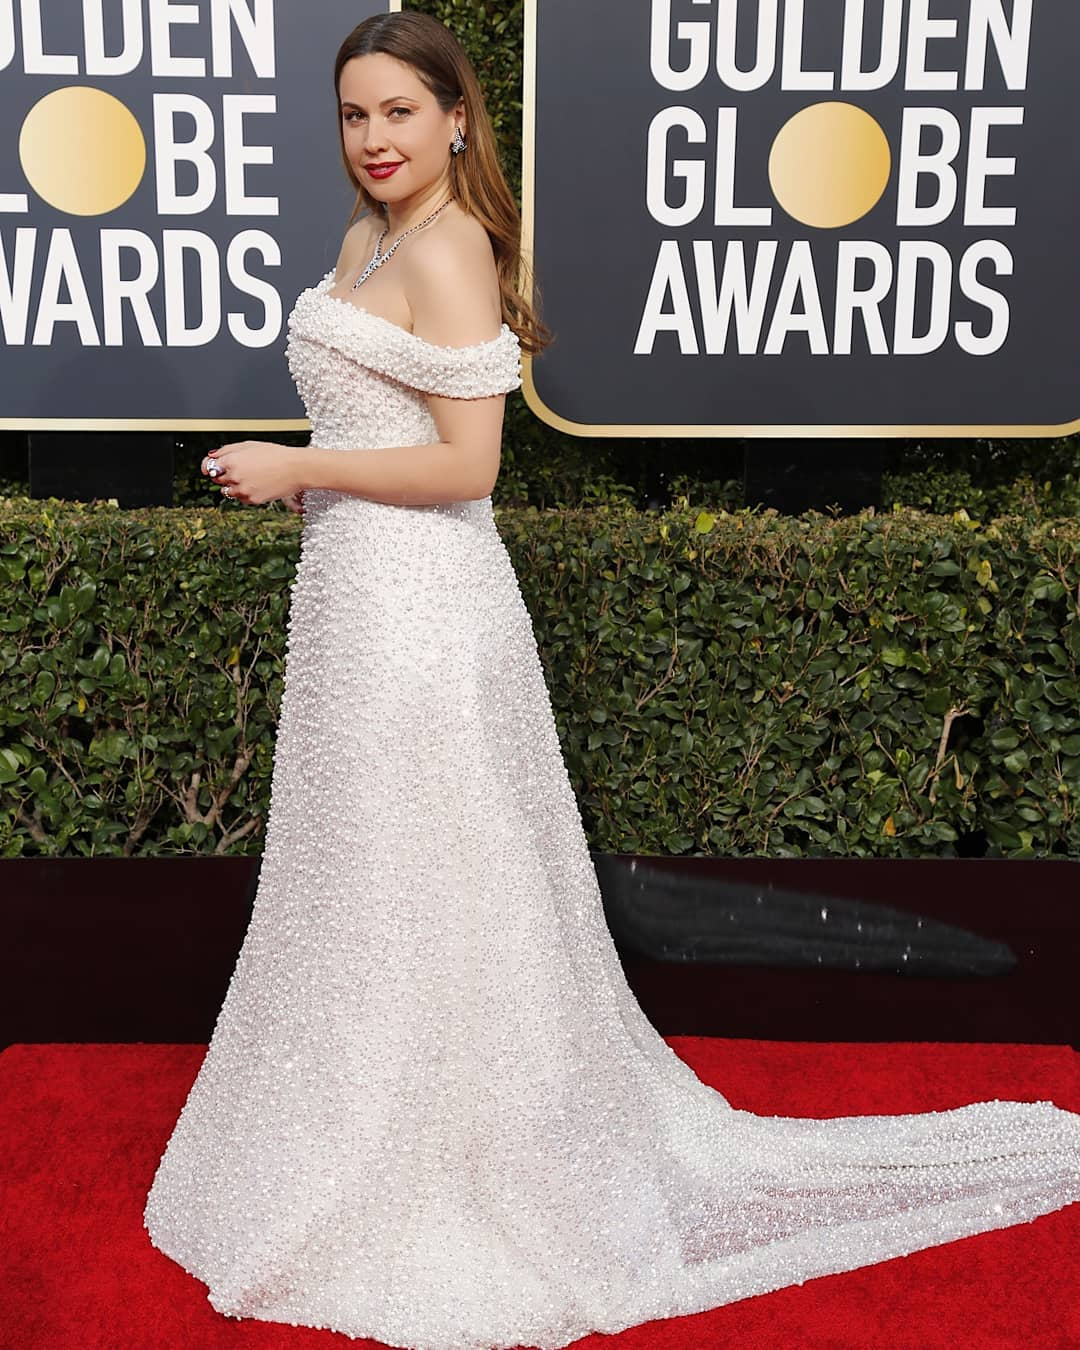hand: (208, 446, 298, 492)
